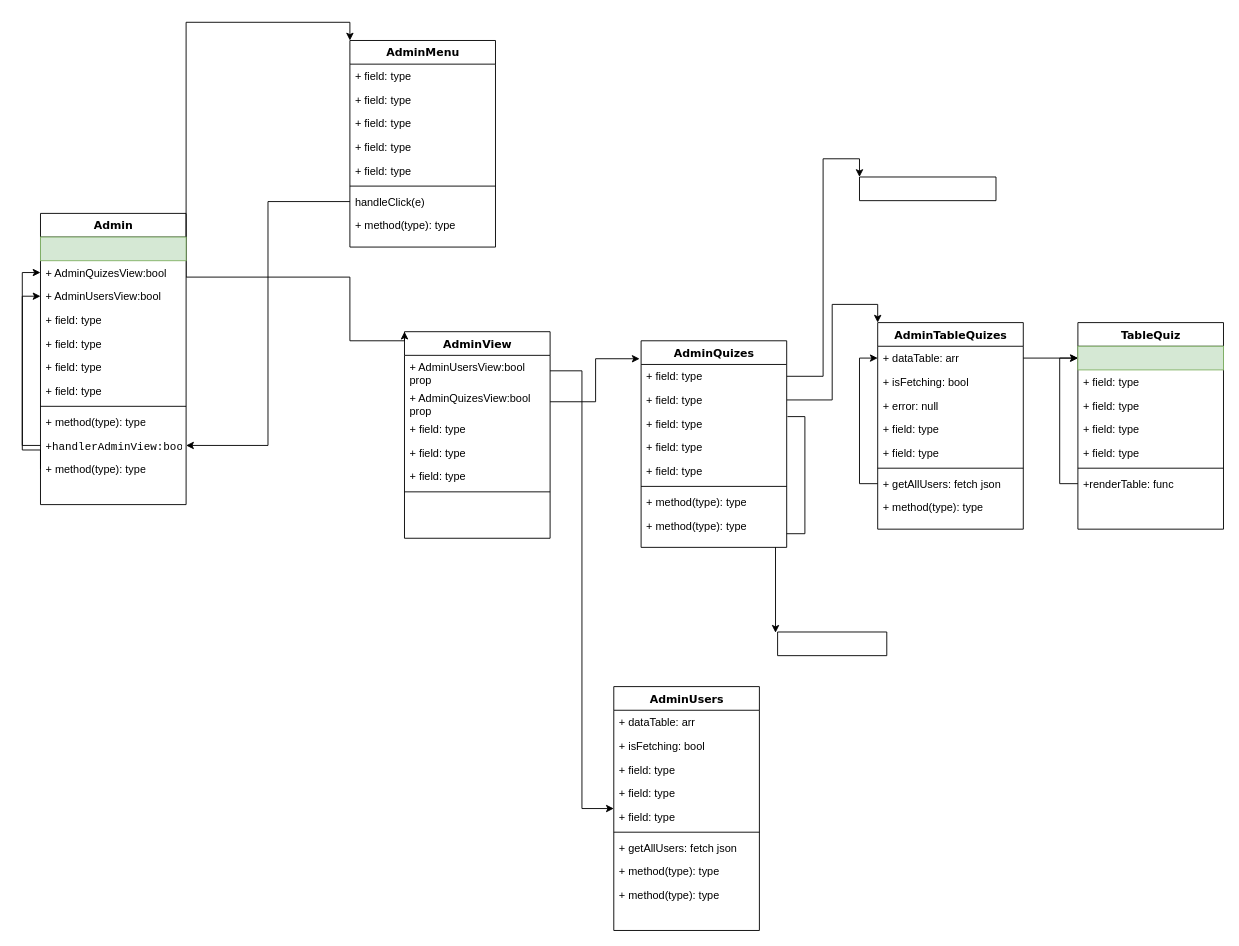
This 1239x946 diagram has some shape labels left out. The shapes that lost their labels are listed below. From the top down, each one's centre as x and y in pixels, then its label:
the point at 927,188: AdminCategories
the point at 113,248: + adminView: bool prop
the point at 1150,357: + data: arr props
the point at 832,643: AdminQuestions
